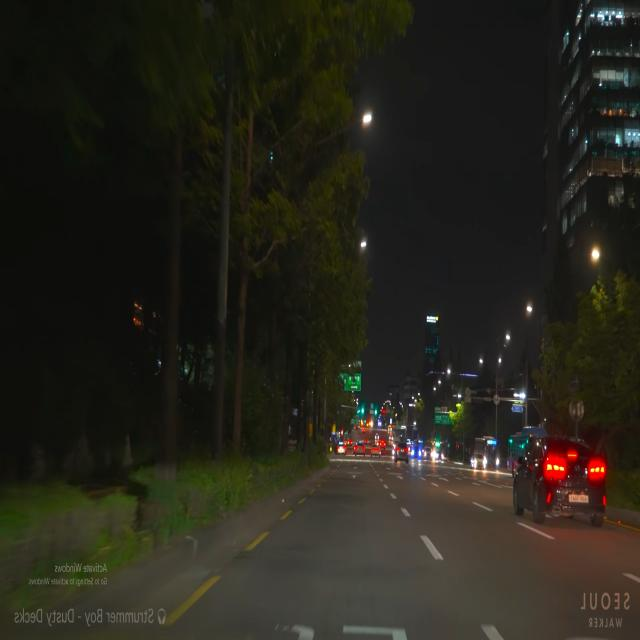headlights: (482, 451, 502, 472)
